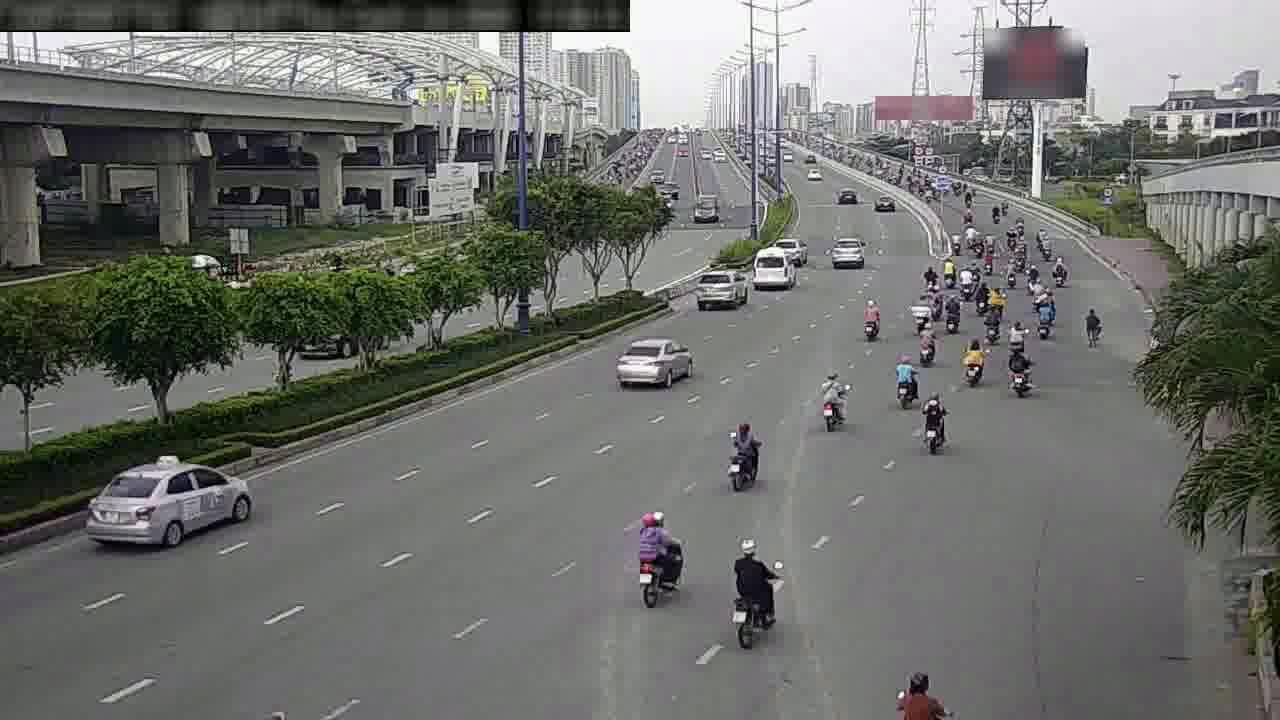14: (748, 248, 798, 293)
container: (88, 449, 259, 542), (614, 330, 693, 395), (691, 262, 750, 312), (824, 234, 868, 271), (762, 232, 807, 262)
motorbike: (719, 539, 785, 646), (622, 509, 687, 602), (717, 417, 767, 493), (910, 389, 957, 458), (811, 370, 853, 435), (1002, 344, 1041, 402), (885, 355, 922, 411), (956, 336, 990, 389), (855, 299, 887, 345), (910, 320, 941, 366), (1031, 301, 1058, 344), (1003, 314, 1029, 356), (1080, 302, 1103, 349), (979, 304, 1005, 345), (940, 293, 965, 334), (909, 294, 930, 331), (972, 280, 994, 314), (955, 267, 975, 300), (918, 262, 940, 291)
